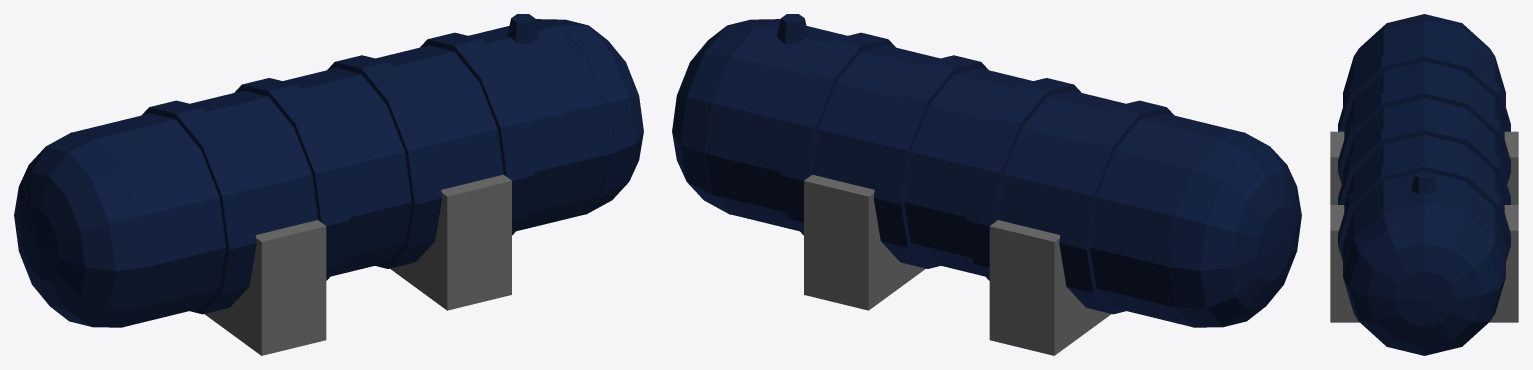
Rendered from deposito1.fbx.
3 views of the same model, side by side, from view 1: azimuth 30°, elevation 25°; view 2: azimuth 150°, elevation 25°; view 3: azimuth 270°, elevation 25° (orthographic). The views are drawn at different scales.
Parts seen in each view (by area): view 1: deposito, tapas_deposito, soporte, salida; view 2: deposito, tapas_deposito, soporte, salida; view 3: deposito, tapas_deposito, soporte, salida.
Part boxes in pixels (left/top/right/bottom): deposito: left=73, top=19, right=610, bottom=327; tapas_deposito: left=14, top=19, right=643, bottom=327; soporte: left=204, top=174, right=511, bottom=355; salida: left=507, top=14, right=538, bottom=44; deposito: left=705, top=19, right=1242, bottom=327; tapas_deposito: left=672, top=19, right=1301, bottom=327; soporte: left=804, top=174, right=1111, bottom=355; salida: left=777, top=14, right=808, bottom=44; deposito: left=1338, top=19, right=1510, bottom=274; tapas_deposito: left=1343, top=14, right=1505, bottom=355; soporte: left=1330, top=131, right=1518, bottom=322; salida: left=1411, top=171, right=1437, bottom=193.
Bounding box in the file's own units: 668 × 238 × 231.
